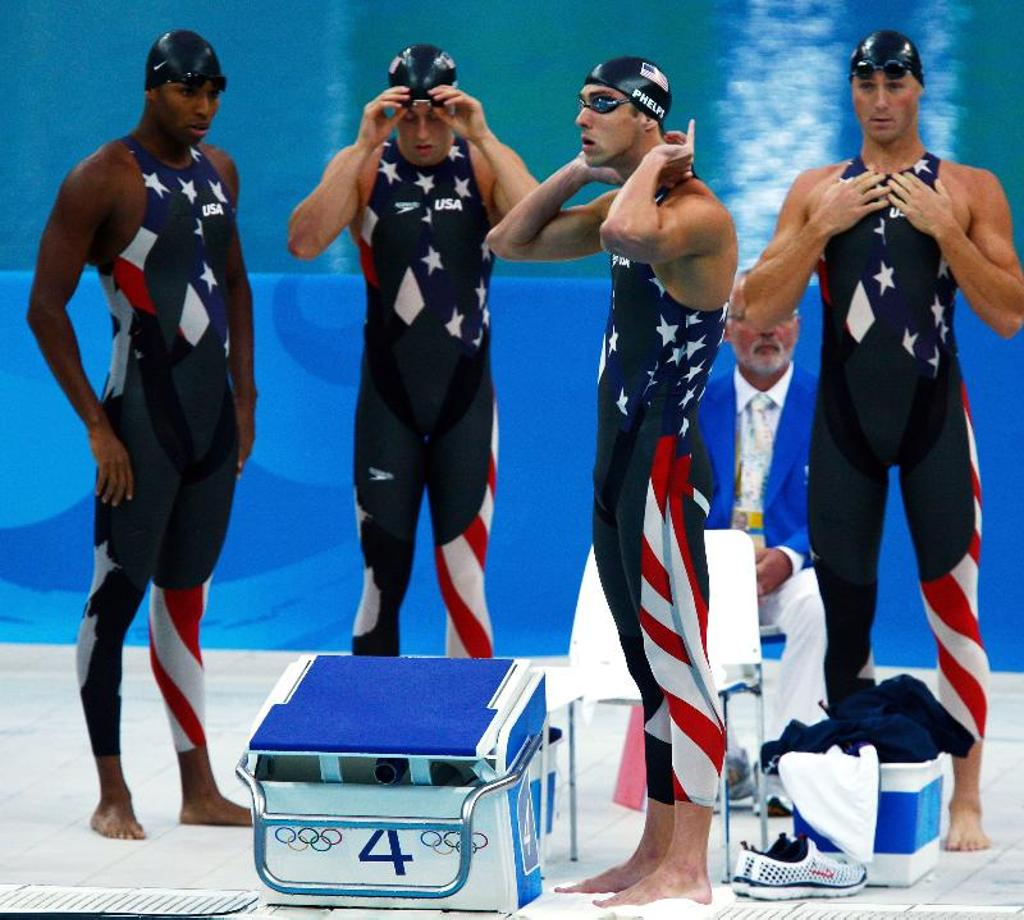face: (722, 286, 798, 366), (158, 66, 222, 146), (854, 64, 918, 144), (392, 92, 452, 166), (574, 84, 626, 162)
